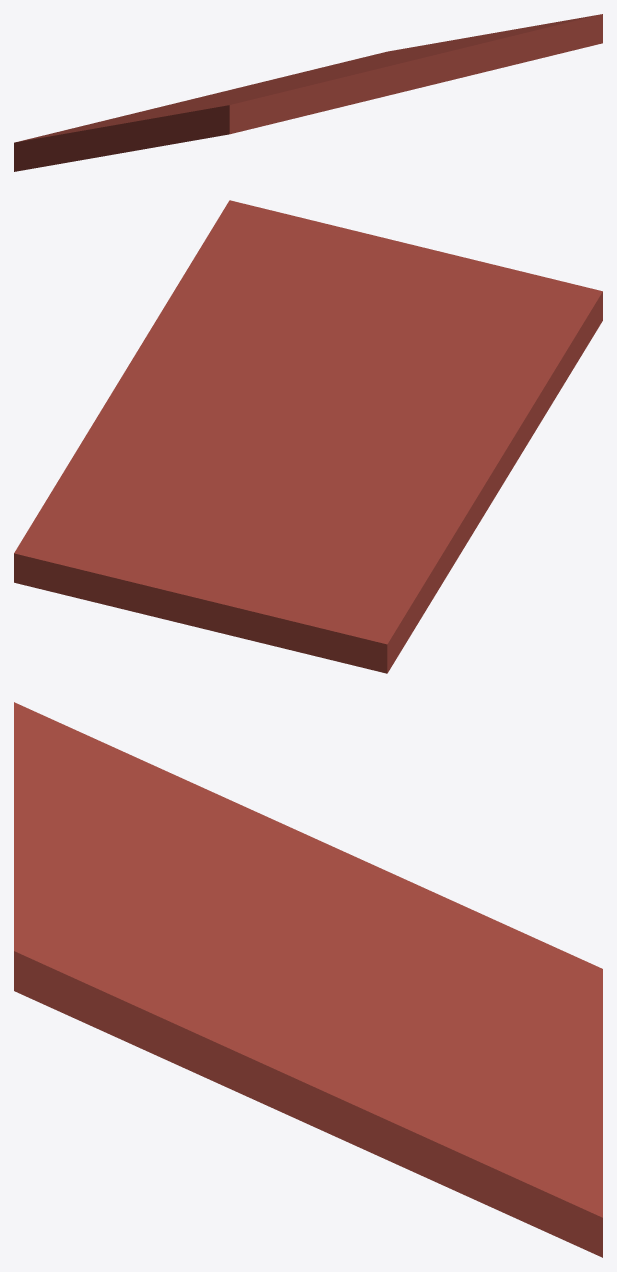
The model's file is architecture-city-roof.lod0.glb.
3 renders of one model, top to bottom at view 1: azimuth 30°, elevation 25°; view 2: azimuth 150°, elevation 25°; view 3: azimuth 270°, elevation 25°, orthographic. The views are drawn at different scales.
Visible parts, largest first — view 1: architecture-city-roof__body; view 2: architecture-city-roof__body; view 3: architecture-city-roof__body.
Boxes of the visible parts, box(x1,y1,x2,y2) form: architecture-city-roof__body: box(14, 14, 602, 171); architecture-city-roof__body: box(14, 200, 602, 673); architecture-city-roof__body: box(14, 702, 602, 1257).
Size of the model in its own units: 2 by 1.15 by 2.
